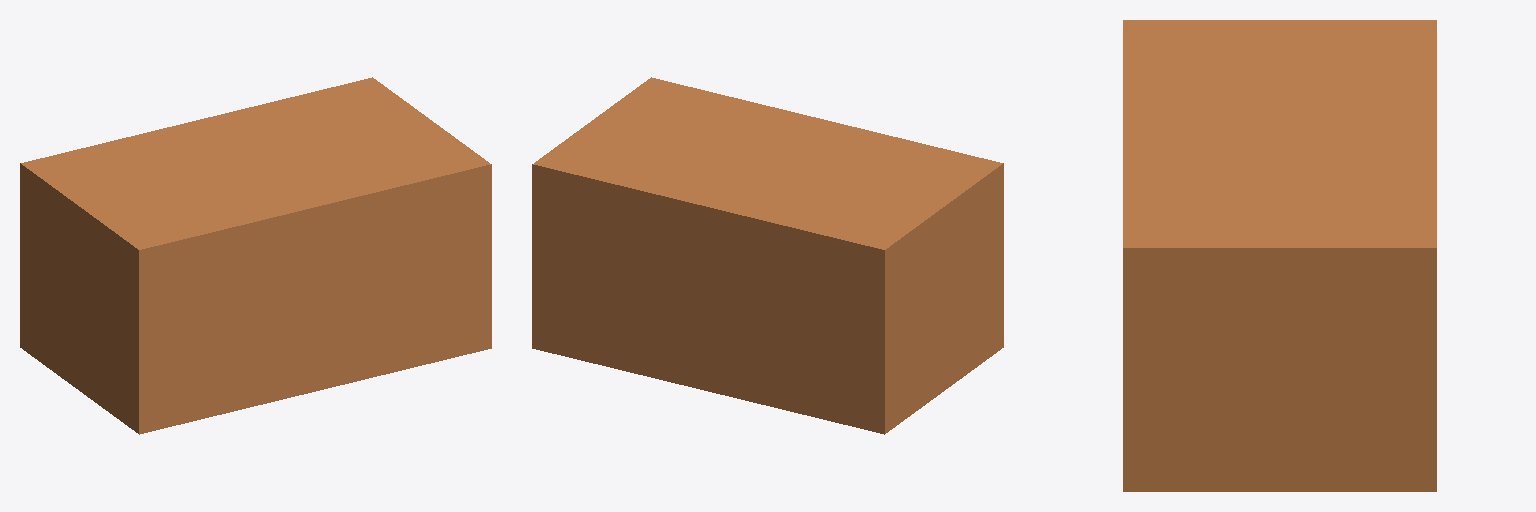
URDF robot description (allen_turning_table):
<?xml version="1.0"?>
<robot name="allen_turning_table">
  <link name="box">
    <visual>
      <material name="wood">
        <color rgba="0.82 0.56 0.35 1.0"/>
      </material>
      <origin xyz="0 0 0"/>
      <geometry>
        <box size="0.600 0.350 0.300"/>
      </geometry>
    </visual>
    <collision>
      <origin xyz="0 0 0"/>
      <geometry>
        <box size="0.600 0.350 0.300"/>
      </geometry>
    </collision>
    <inertial>
      <mass value="500"/>
      <friction value="1.0"/>
      <inertia ixx="1000" ixy="0" ixz="0" iyy="1000" iyz="0" izz="1000"/>
    </inertial>
  </link>
</robot>

--- Facts derived from the render (not from the file) ---
3 views of the same robot in one strip: view 1: azimuth 30°, elevation 25°; view 2: azimuth 150°, elevation 25°; view 3: azimuth 270°, elevation 25° (orthographic).
Model allen_turning_table with 1 links and 0 joints (none), rooted at box, posed every joint at zero.
Visible links, largest first — view 1: box; view 2: box; view 3: box.
Link boxes in pixels (box(x1,y1,x2,y2)): box: box(20, 77, 491, 434); box: box(532, 77, 1003, 434); box: box(1123, 20, 1436, 491).
Size in the robot's own frame: 0.6 by 0.35 by 0.3 metres.
Geometry: primitives only (box / cylinder / sphere), no mesh files.
